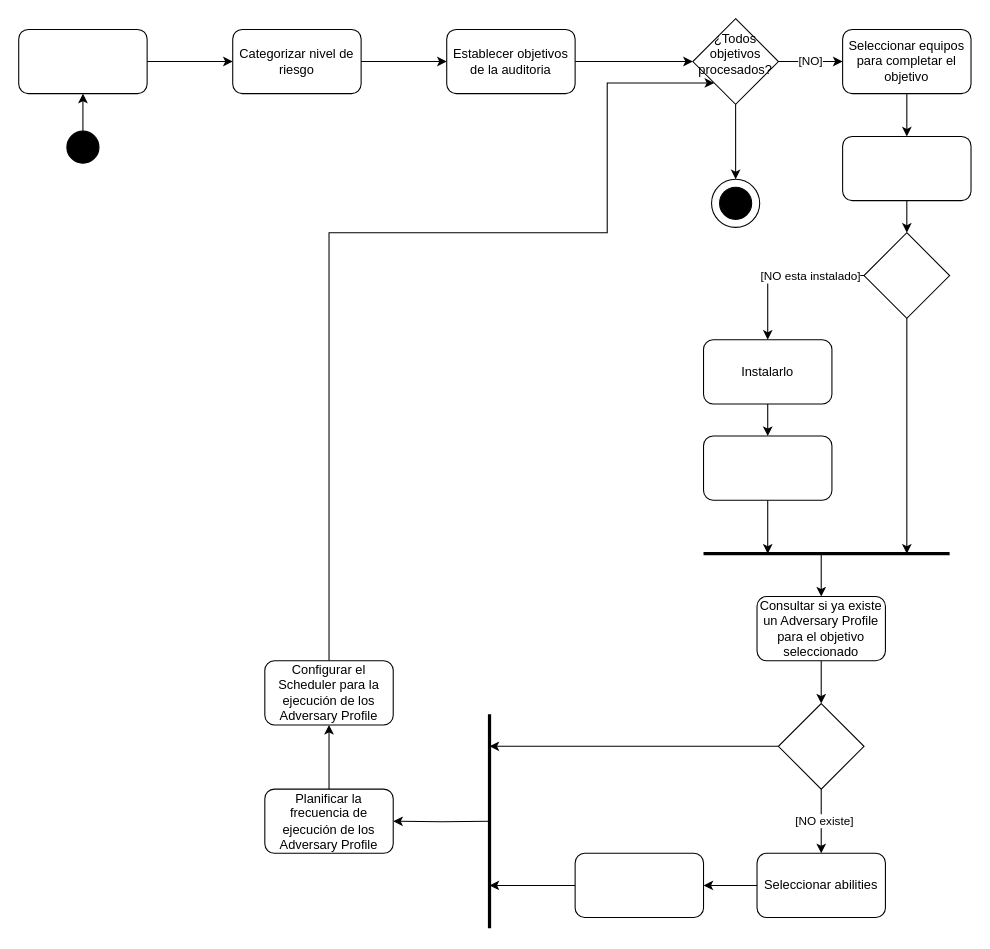
This 990x949 diagram has some shape labels left out. Here are the shapes that lost their labels. From the top down, the centre of each, then its label:
At point 82,61: "Categorizar Cliente".
At point 906,168: "Consultar si tienen el agente instalado".
At point 767,467: "Crear el grupo correspondiente de agentes".
At point 639,885: "Crear el Adversary Profile".
